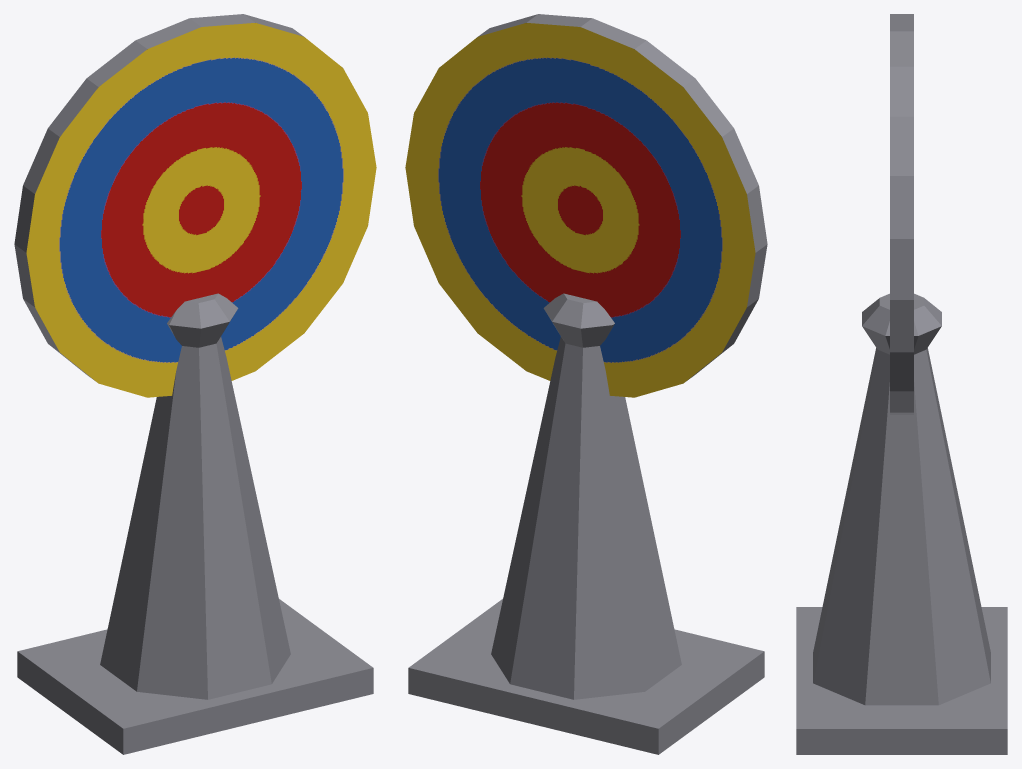
File: target_grey.glb
3 renders of one model, left to right at view 1: azimuth 30°, elevation 25°; view 2: azimuth 150°, elevation 25°; view 3: azimuth 270°, elevation 25°, orthographic.
Visible parts, largest first — view 1: target_grey; view 2: target_grey; view 3: target_grey.
Boxes of the visible parts, x1=… form: target_grey: x1=14, y1=14, x2=376, y2=754; target_grey: x1=405, y1=14, x2=767, y2=754; target_grey: x1=796, y1=14, x2=1007, y2=754.
Size of the model in its own units: 2.55 by 4.62 by 1.34.
Materials: 1 (1 with a texture image).
